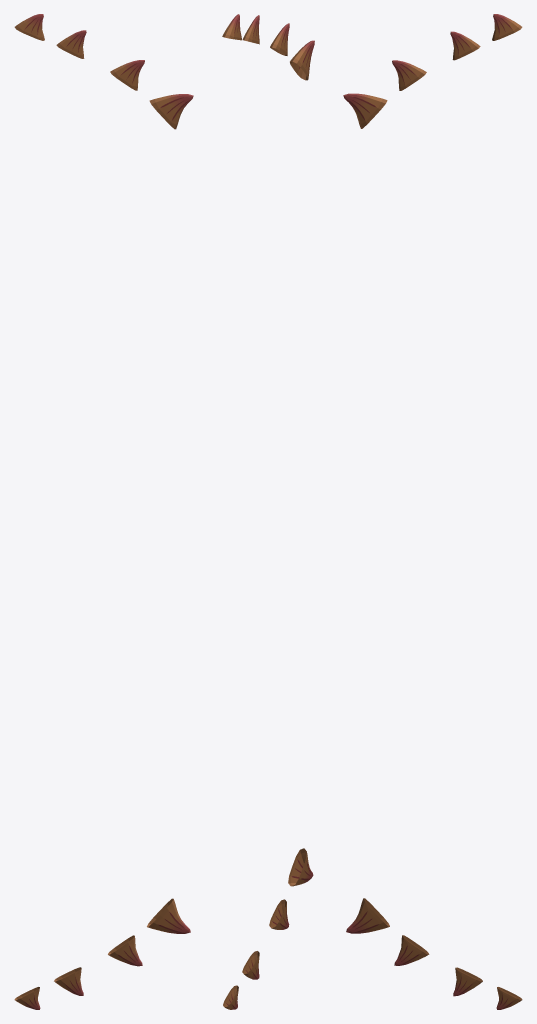
File: mediumBowChineseDragonSimpleTip.glb
The picture shows the model from 3 angles, left to right: view 1: azimuth 90°, elevation 25°; view 2: azimuth 150°, elevation 25°; view 3: azimuth 270°, elevation 25°; orthographic projection.
Parts seen in each view (by area): view 1: mediumBowChineseDragonSimpleTip; view 2: mediumBowChineseDragonSimpleTip; view 3: mediumBowChineseDragonSimpleTip.
Boxes of the visible parts, <box> form: mediumBowChineseDragonSimpleTip: <box>14,14,193,1009</box>; mediumBowChineseDragonSimpleTip: <box>222,14,314,1009</box>; mediumBowChineseDragonSimpleTip: <box>343,14,522,1009</box>.
Bounding box in the file's own units: 0.0164 × 1.43 × 0.2336.
